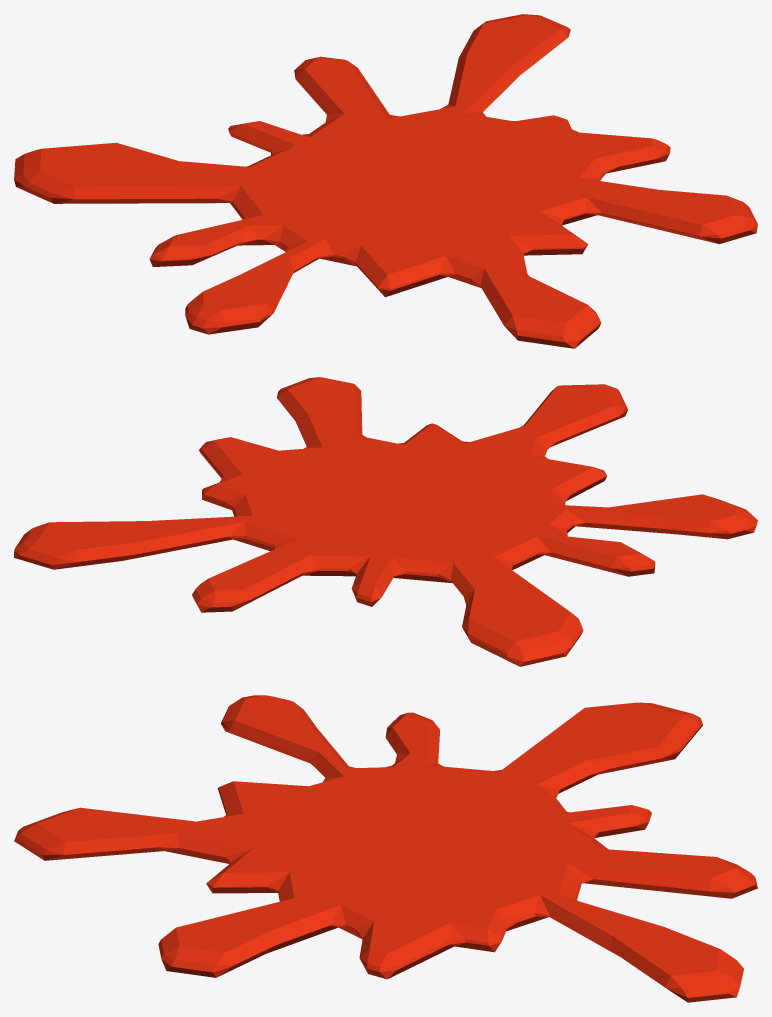
Rendered from ketchupA.fbx.
3 views of the same model, one above another, from view 1: azimuth 30°, elevation 25°; view 2: azimuth 150°, elevation 25°; view 3: azimuth 270°, elevation 25° (orthographic). The views are drawn at different scales.
Visible parts, largest first — view 1: Circle.031; view 2: Circle.031; view 3: Circle.031.
Part boxes in pixels (x1,y1,x2,y2): Circle.031: [14, 14, 757, 348]; Circle.031: [14, 377, 757, 666]; Circle.031: [14, 695, 757, 1002].
Size of the model in its own units: 22.85 by 0.6404 by 24.
